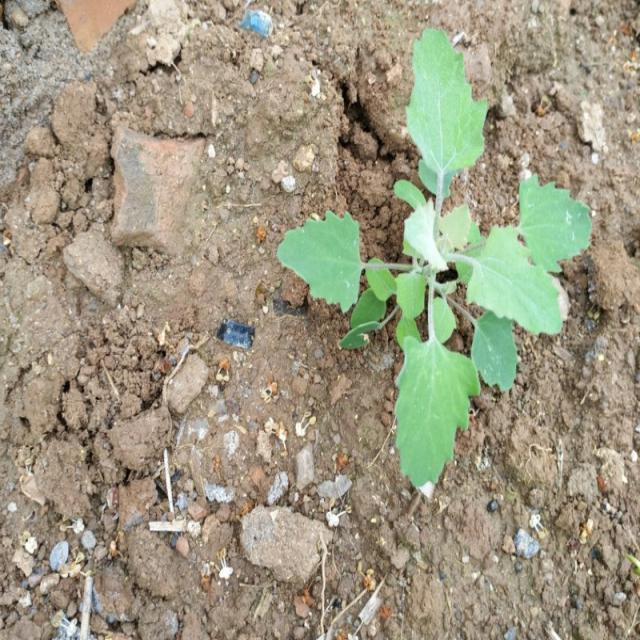ca: (278, 26, 594, 389)
